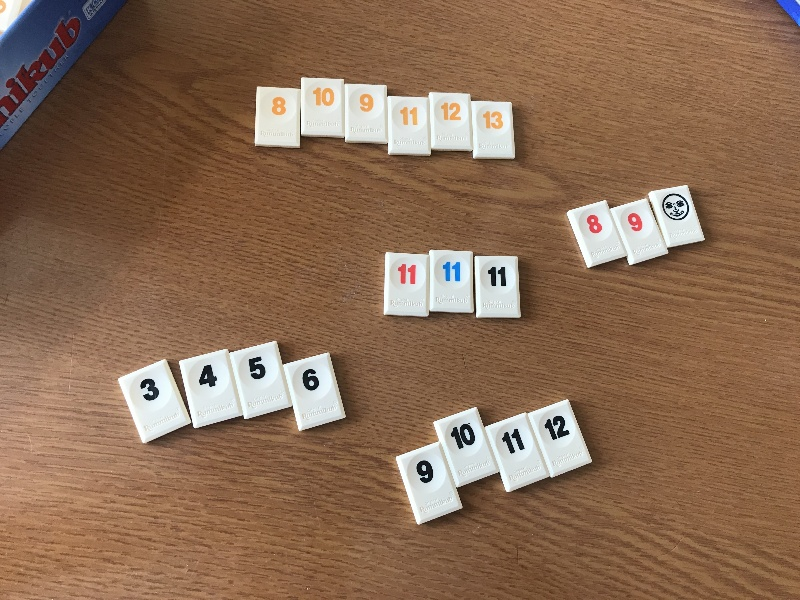single_tile: (118, 357, 192, 444), (433, 405, 504, 493), (396, 441, 465, 527), (485, 410, 550, 494), (528, 399, 595, 480), (229, 339, 294, 421), (180, 348, 244, 430), (284, 353, 346, 433), (567, 199, 630, 269), (610, 196, 669, 266), (648, 183, 706, 247), (254, 84, 304, 151), (428, 248, 476, 316), (474, 253, 522, 320), (300, 75, 346, 143), (385, 250, 431, 318), (386, 95, 433, 158), (427, 90, 474, 153), (470, 100, 517, 163), (344, 82, 389, 147)
tile_row: (397, 398, 594, 526), (118, 338, 348, 447), (251, 73, 524, 164), (565, 183, 708, 270), (382, 245, 524, 325)
